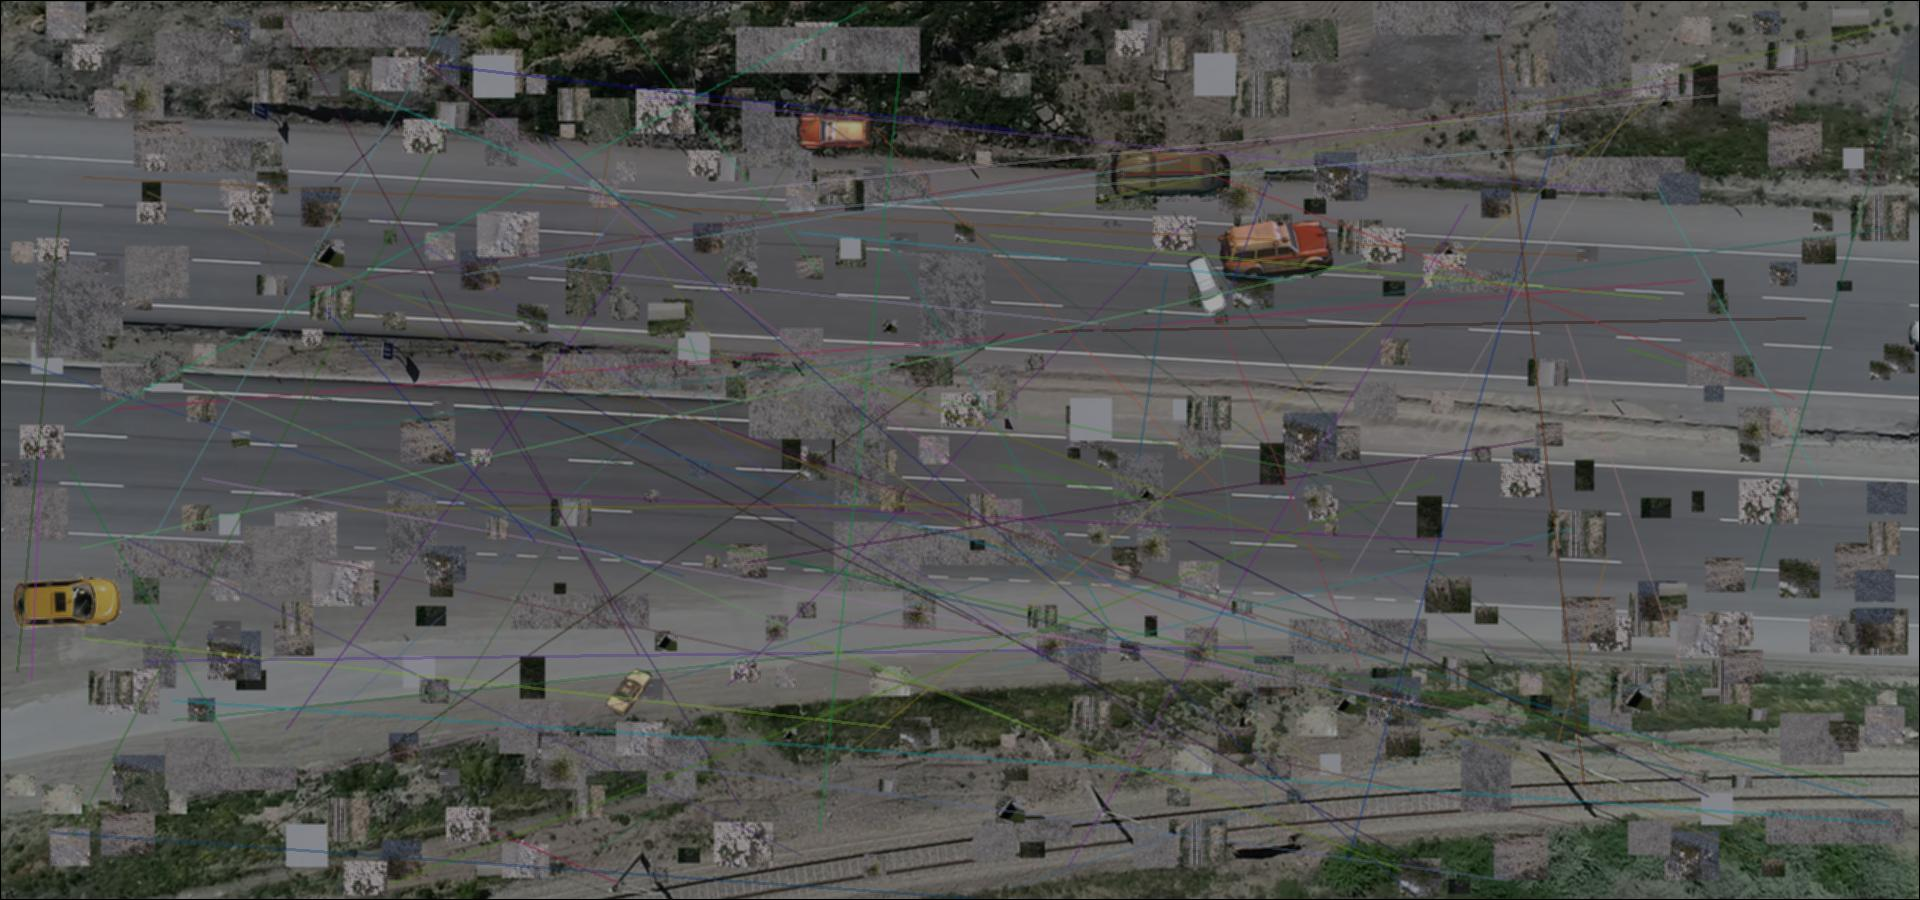arac: (1218, 220, 1335, 280), (13, 571, 122, 634), (1111, 148, 1229, 201), (795, 111, 873, 152), (1185, 253, 1227, 313), (605, 669, 651, 718)
